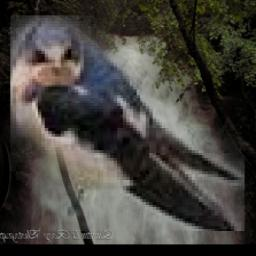Swallow: (10, 15, 245, 231)
